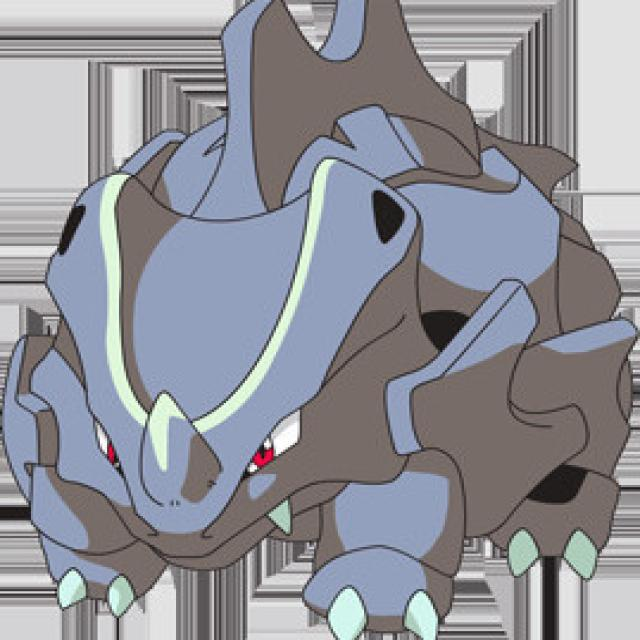Rhyhorn: (33, 142, 564, 640)
